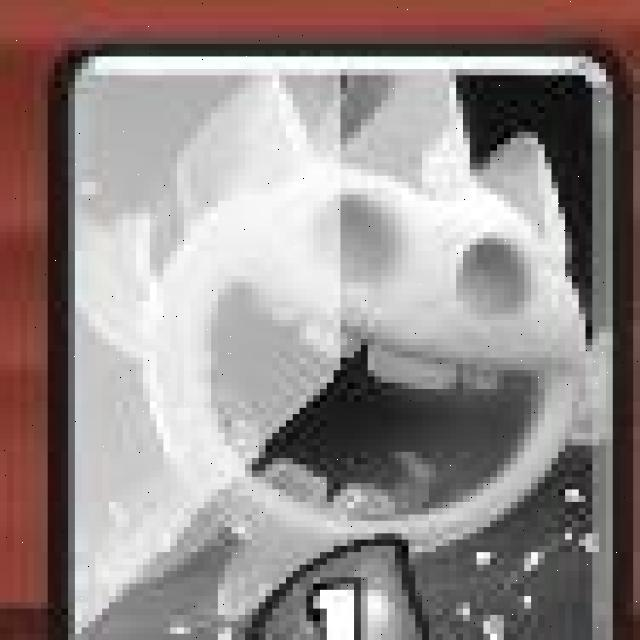Ice_Spirit: (47, 43, 618, 640)
